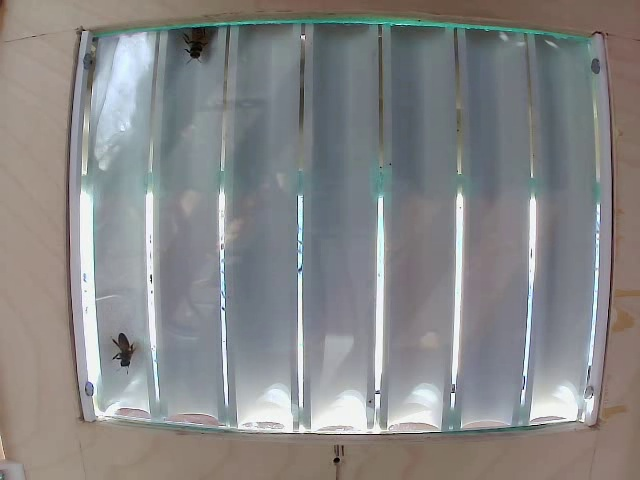bee: (109, 337, 135, 366)
